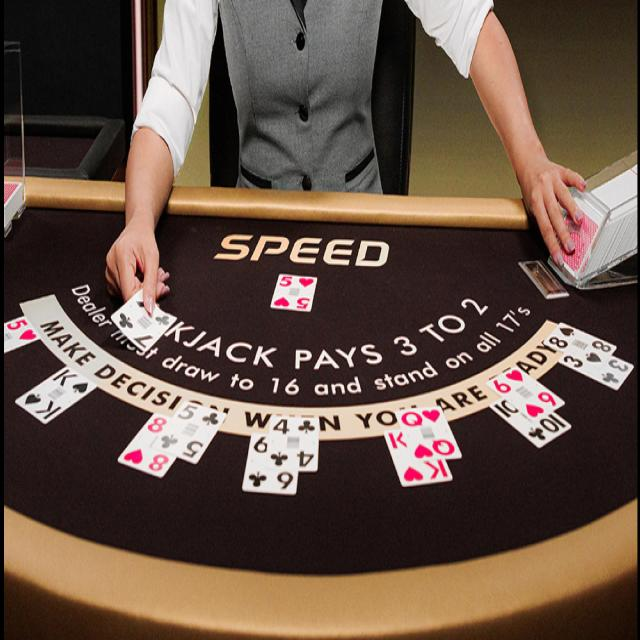Card-10: (489, 399, 571, 447)
Card-3: (558, 353, 634, 390)
Card-4: (267, 415, 318, 470)
Card-5: (154, 400, 226, 464), (270, 273, 317, 312), (4, 315, 41, 353)
Card-6: (486, 365, 564, 422), (243, 433, 298, 494)
Card-7: (110, 286, 177, 351)
Card-8: (118, 411, 176, 478), (545, 321, 616, 367)
Card-K: (16, 366, 97, 425), (383, 429, 452, 487)
Card-Q: (395, 405, 462, 462)
